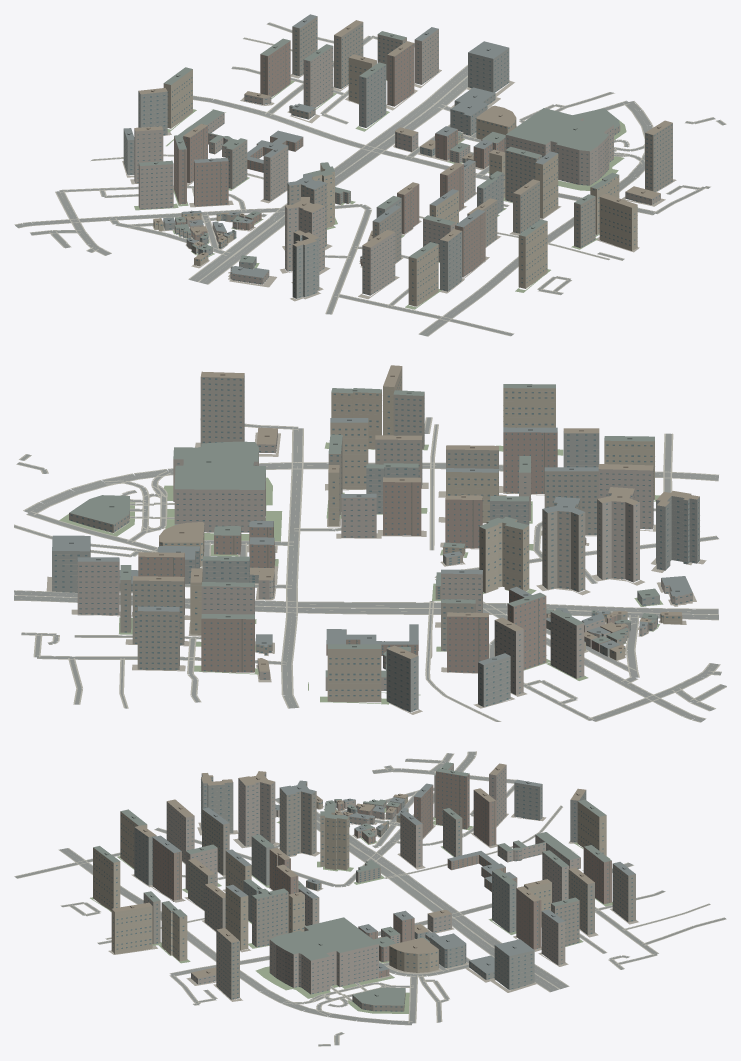
The picture shows the model from 3 angles, top to bottom: view 1: azimuth 30°, elevation 25°; view 2: azimuth 150°, elevation 25°; view 3: azimuth 270°, elevation 25°; orthographic projection. The views are drawn at different scales.
Parts seen in each view (by area): view 1: context-osm-buildings, context-osm-roads, context-osm-sidewalks, context-building-plinths; view 2: context-osm-buildings, context-osm-roads, context-osm-sidewalks, context-building-plinths; view 3: context-osm-buildings, context-osm-roads, context-osm-sidewalks, context-building-plinths.
Boxes of the visible parts, <box> form: context-osm-buildings: <box>123,14,672,306</box>; context-osm-roads: <box>15,23,725,336</box>; context-osm-sidewalks: <box>14,22,726,336</box>; context-building-plinths: <box>122,69,676,309</box>; context-osm-buildings: <box>52,365,699,712</box>; context-osm-roads: <box>14,417,726,722</box>; context-osm-sidewalks: <box>14,417,726,722</box>; context-building-plinths: <box>46,432,706,714</box>; context-osm-buildings: <box>93,762,635,1011</box>; context-osm-roads: <box>15,751,725,1045</box>; context-osm-sidewalks: <box>14,751,726,1046</box>; context-building-plinths: <box>90,806,638,1013</box>.
Size of the model in its own units: 903 by 96.96 by 905.
